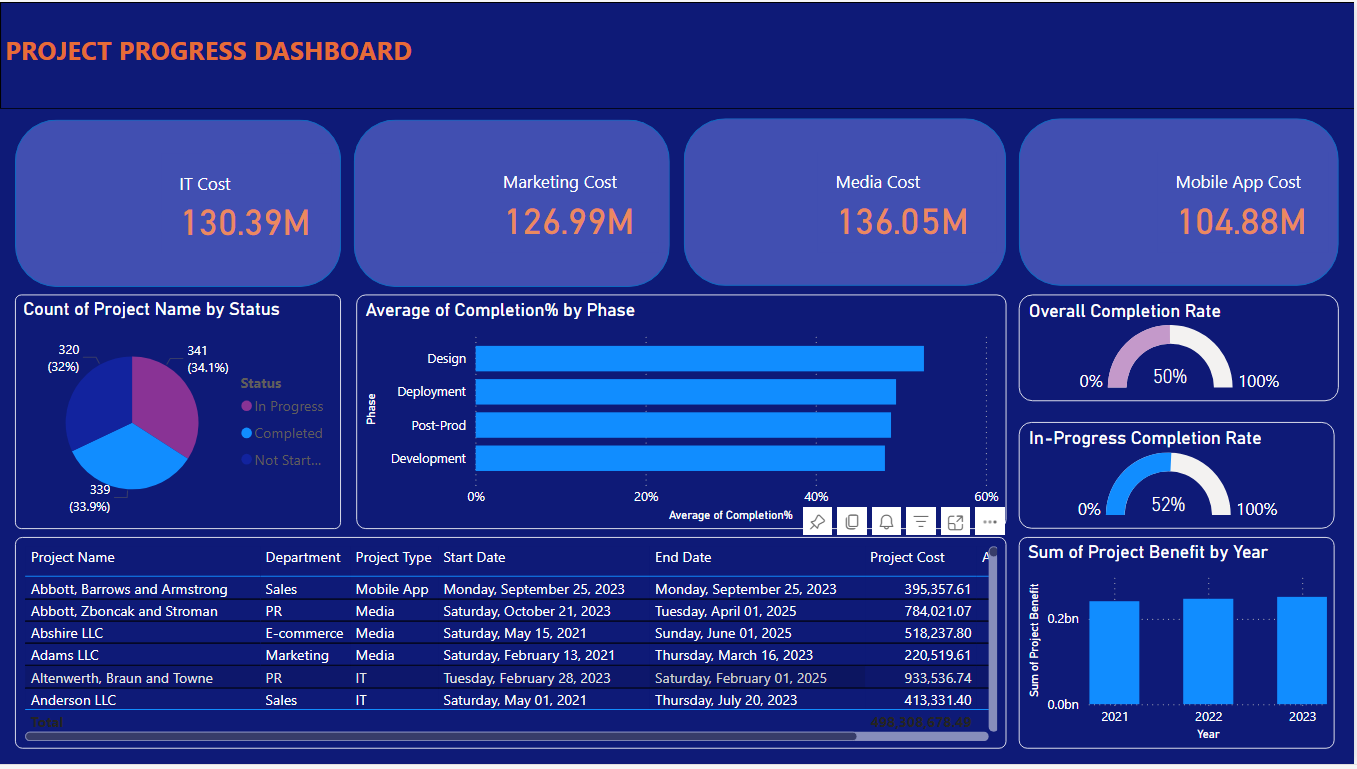

The page's visual inventory and layout, read from the dashboard file:
{"tool":"powerbi","page":{"name":"Page 1","canvas":[1280,720],"ordinal":0},"visuals":[{"type":"shape","box":[0,0,1280.5,101.2],"z":0},{"type":"textbox","box":[0,25,448.7,51.2],"z":1000},{"type":"shape","box":[14.3,110.7,308.2,158.3],"z":2000},{"type":"shape","box":[645.8,109.5,304.7,158.3],"z":3000},{"type":"shape","box":[962.8,109.5,302.3,158.3],"z":4000},{"type":"shape","box":[334.8,110.7,298.7,158.3],"z":5000},{"type":"cardVisual","fields":{"Data":["Sum(Table_01.Project_Cost)"]},"box":[152.3,142.8,160.7,95.2],"z":6000},{"type":"cardVisual","fields":{"Data":["Sum(Table_01.Project_Cost)"]},"box":[458.2,141.6,164.2,95.2],"z":7000},{"type":"cardVisual","fields":{"Data":["Sum(Table_01.Project_Cost)"]},"box":[772.4,141.6,169,95.2],"z":8000},{"type":"cardVisual","fields":{"Data":["Sum(Table_01.Project_Cost)"]},"box":[1093.7,141.6,161.9,95.2],"z":9000},{"type":"pieChart","fields":{"Category":["Table_01.Status"],"Y":["CountNonNull(Table_01.Project Name)"]},"box":[14.3,276.1,308.2,221.4],"z":10000},{"type":"barChart","fields":{"Category":["Table_01.Phase"],"Y":["Avg(Table_01.Completion%)"]},"box":[336.8,276.1,614.1,221.4],"z":11000},{"type":"gauge","fields":{"Y":["Avg(Table_01.Completion%)"]},"box":[962.8,276.1,302.3,101.2],"z":12000},{"type":"gauge","fields":{"Y":["Avg(Table_01.Completion%)"]},"box":[962.8,396.3,298.7,101.2],"z":13000},{"type":"tableEx","fields":{"Values":["Table_01.Project Name","Table_01.Department","Table_01.Project Type","Table_01.Start Date","Table_01.End Date","Sum(Table_01.Project_Cost)","Avg(Table_01.Completion%)"]},"box":[14.3,505.8,936.6,199.9],"z":14000},{"type":"columnChart","fields":{"Category":["Table_01.Year"],"Y":["Sum(Table_01.Project Benefit)"]},"box":[962.8,505.8,298.7,199.9],"z":15000}]}

Visuals, with their boxes in screenshot pixels (x1, y1, x2, y2), scaled from the page's 1280x720 canvas onto the 1357x769 screenshot:
shape: select_region(0, 0, 1356, 108)
textbox: select_region(0, 27, 476, 81)
shape: select_region(15, 118, 342, 287)
shape: select_region(685, 117, 1008, 286)
shape: select_region(1021, 117, 1341, 286)
shape: select_region(355, 118, 672, 287)
cardVisual - Sum(Table_01.Project_Cost): select_region(161, 153, 332, 254)
cardVisual - Sum(Table_01.Project_Cost): select_region(486, 151, 660, 253)
cardVisual - Sum(Table_01.Project_Cost): select_region(819, 151, 998, 253)
cardVisual - Sum(Table_01.Project_Cost): select_region(1159, 151, 1331, 253)
pieChart - Table_01.Status x CountNonNull(Table_01.Project Name): select_region(15, 295, 342, 531)
barChart - Table_01.Phase x Avg(Table_01.Completion%): select_region(357, 295, 1008, 531)
gauge - Avg(Table_01.Completion%): select_region(1021, 295, 1341, 403)
gauge - Avg(Table_01.Completion%): select_region(1021, 423, 1337, 531)
tableEx - Table_01.Project Name x Table_01.Department: select_region(15, 540, 1008, 754)
columnChart - Table_01.Year x Sum(Table_01.Project Benefit): select_region(1021, 540, 1337, 754)
